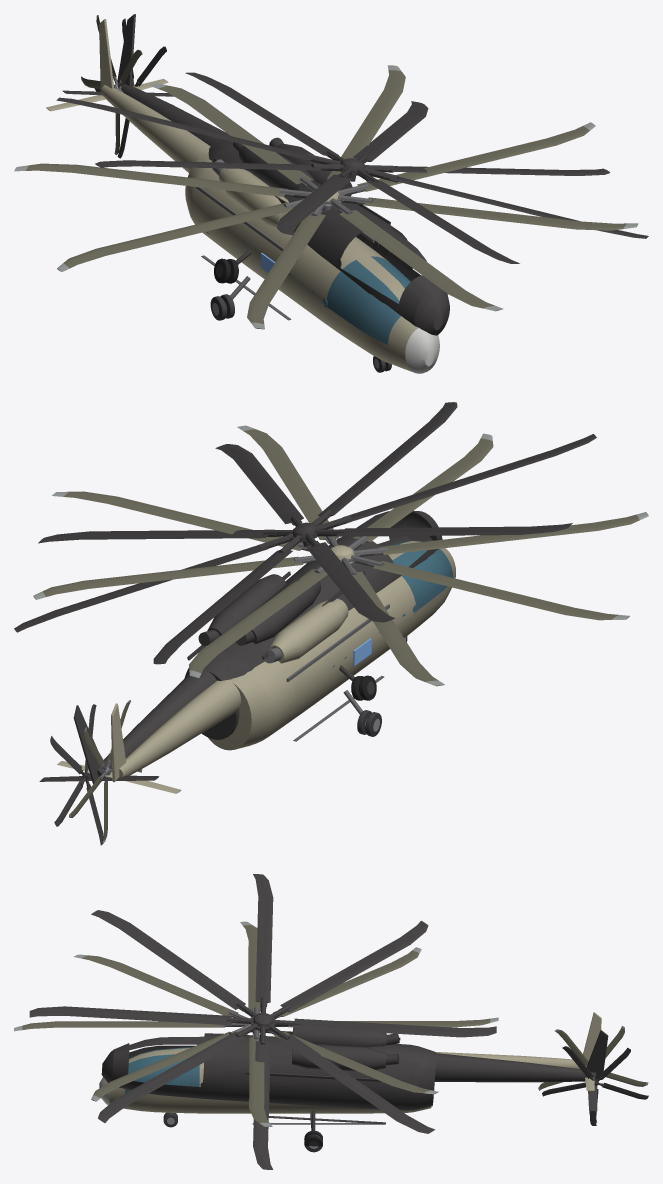
File: heavyLift__mi_26.glb
3 renders of one model, top to bottom at view 1: azimuth 30°, elevation 25°; view 2: azimuth 150°, elevation 25°; view 3: azimuth 270°, elevation 25°, orthographic. The views are drawn at different scales.
Visible parts, largest first — view 1: Wreck, Fuselage_Mesh, Rotor_Main_Mesh, Engines_Mesh, Landing_Gear_Mesh, Rotor_Tail_Mesh; view 2: Wreck, Fuselage_Mesh, Rotor_Main_Mesh, Engines_Mesh, Rotor_Tail_Mesh, Landing_Gear_Mesh; view 3: Wreck, Rotor_Main_Mesh, Fuselage_Mesh, Rotor_Tail_Mesh.
Part boxes in pixels (box(x1,y1,x2,y2)): Wreck: box(56, 14, 648, 335); Fuselage_Mesh: box(46, 19, 439, 373); Rotor_Main_Mesh: box(14, 65, 638, 329); Engines_Mesh: box(212, 159, 288, 228); Landing_Gear_Mesh: box(210, 276, 391, 372); Rotor_Tail_Mesh: box(81, 15, 142, 155); Wreck: box(14, 402, 596, 845); Fuselage_Mesh: box(57, 541, 455, 793); Rotor_Main_Mesh: box(33, 425, 648, 686); Engines_Mesh: box(263, 598, 348, 663); Rotor_Tail_Mesh: box(69, 700, 142, 842); Landing_Gear_Mesh: box(343, 636, 407, 736); Wreck: box(29, 874, 648, 1169); Rotor_Main_Mesh: box(14, 921, 498, 1126); Fuselage_Mesh: box(99, 1012, 601, 1124); Rotor_Tail_Mesh: box(538, 1026, 648, 1122).
Size of what is drawn, in the model's own units: 32.78 by 12.19 by 41.92.
